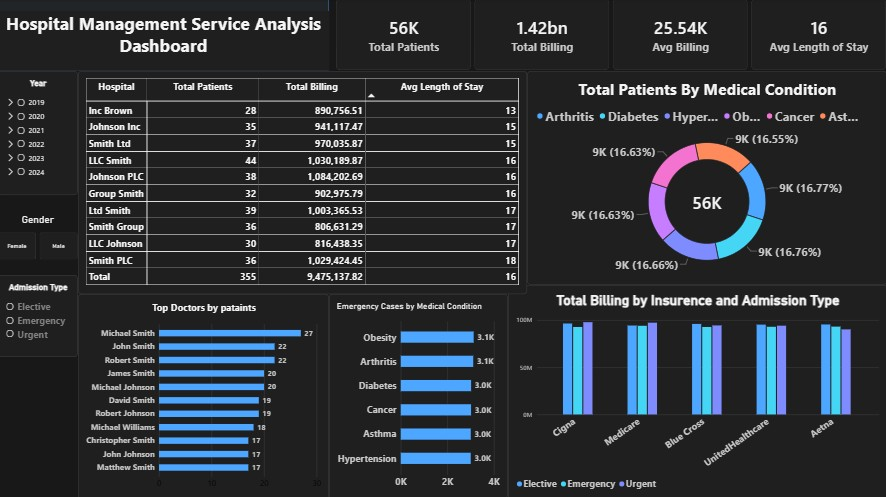

This screenshot's page, from the dashboard's own definition file:
{"tool":"powerbi","page":{"name":"Page 1","canvas":[1920,1080],"ordinal":0},"visuals":[{"type":"cardVisual","fields":{"Data":["healthcare_dataset.Total Patients","healthcare_dataset.Total Billing","healthcare_dataset.Avg Billing","healthcare_dataset.Avg Length of Stay"]},"box":[730.7,0,1189.3,153.7],"z":0},{"type":"donutChart","title":"Total Patients By Medical Condition","fields":{"Category":["healthcare_dataset.Medical Condition"],"Y":["healthcare_dataset.Total Patients"]},"box":[1142.2,155,777.8,462.1],"z":1},{"type":"clusteredColumnChart","title":"Total Billing by Insurence and Admission Type","fields":{"Category":["healthcare_dataset.Insurance Provider"],"Series":["healthcare_dataset.Admission Type"],"Y":["healthcare_dataset.Total Billing"]},"box":[1101.1,617.3,818.9,463.6],"z":2},{"type":"pivotTable","fields":{"Rows":["healthcare_dataset.Hospital"],"Values":["healthcare_dataset.Total Patients","healthcare_dataset.Total Billing","healthcare_dataset.Avg Length of Stay"]},"box":[172.2,155,970,482.2],"z":3},{"type":"listSlicer","fields":{"Values":["healthcare_dataset.Date of Admission.Variation.Date Hierarchy.Year","healthcare_dataset.Date of Admission.Variation.Date Hierarchy.Month"]},"box":[0,155,172,268.4],"z":4},{"type":"advancedSlicerVisual","fields":{"Values":["healthcare_dataset.Gender"]},"box":[0,464.9,172,98.6],"z":5},{"type":"listSlicer","fields":{"Values":["healthcare_dataset.Admission Type"]},"box":[0,597,172,176.6],"z":6},{"type":"clusteredBarChart","title":"Top Doctors by pataints","fields":{"Category":["healthcare_dataset.Doctor"],"Y":["healthcare_dataset.Total Patients"]},"box":[172.2,637.1,542.4,442],"z":7},{"type":"shape","box":[0,0,714.6,155],"z":8},{"type":"textbox","box":[0,25.8,714.6,129.1],"z":9},{"type":"clusteredBarChart","title":"Emergency Cases by Medical Condition","fields":{"Category":["healthcare_dataset.Medical Condition"],"Y":["healthcare_dataset.Emergency Cases"]},"box":[714.6,637.1,386.5,442],"z":10}]}

Visuals, with their boxes in screenshot pixels (x1, y1, x2, y2), scaled from the page's 1920x1080 canvas onto the 886x497 screenshot:
cardVisual - healthcare_dataset.Total Patients x healthcare_dataset.Total Billing: {"left": 337, "top": 0, "right": 885, "bottom": 71}
"Total Patients By Medical Condition" donutChart: {"left": 527, "top": 71, "right": 885, "bottom": 284}
"Total Billing by Insurence and Admission Type" clusteredColumnChart: {"left": 508, "top": 284, "right": 885, "bottom": 496}
pivotTable - healthcare_dataset.Hospital x healthcare_dataset.Total Patients: {"left": 79, "top": 71, "right": 527, "bottom": 293}
listSlicer - healthcare_dataset.Date of Admission.Variation.Date Hierarchy.Year x healthcare_dataset.Date of Admission.Variation.Date Hierarchy.Month: {"left": 0, "top": 71, "right": 79, "bottom": 195}
advancedSlicerVisual - healthcare_dataset.Gender: {"left": 0, "top": 214, "right": 79, "bottom": 259}
listSlicer - healthcare_dataset.Admission Type: {"left": 0, "top": 275, "right": 79, "bottom": 356}
"Top Doctors by pataints" clusteredBarChart: {"left": 79, "top": 293, "right": 330, "bottom": 496}
shape: {"left": 0, "top": 0, "right": 330, "bottom": 71}
textbox: {"left": 0, "top": 12, "right": 330, "bottom": 71}
"Emergency Cases by Medical Condition" clusteredBarChart: {"left": 330, "top": 293, "right": 508, "bottom": 496}
